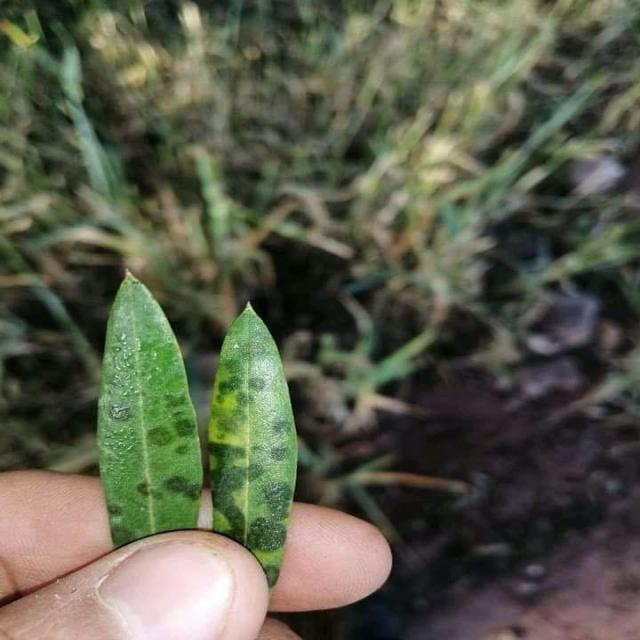OlivePeacockSpot: (98, 272, 202, 548), (208, 302, 297, 588)
